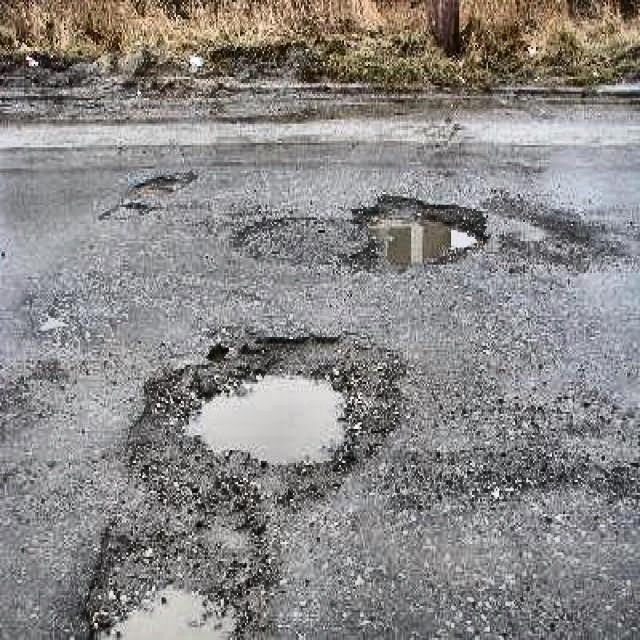Pothole: (118, 324, 408, 514), (78, 520, 286, 638), (350, 190, 493, 276), (133, 168, 197, 196), (102, 198, 157, 222)
